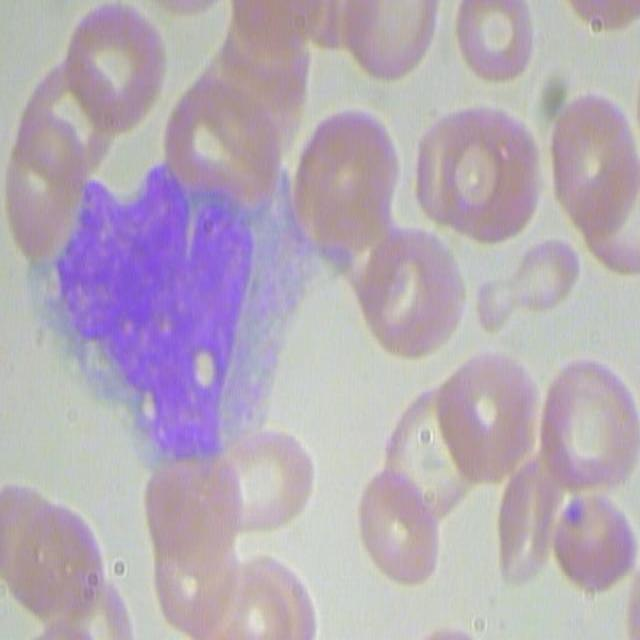RBC: (339, 227, 475, 371), (523, 343, 640, 505), (66, 1, 173, 148), (539, 486, 640, 610), (353, 457, 445, 592)
WBC: (22, 160, 330, 480)
